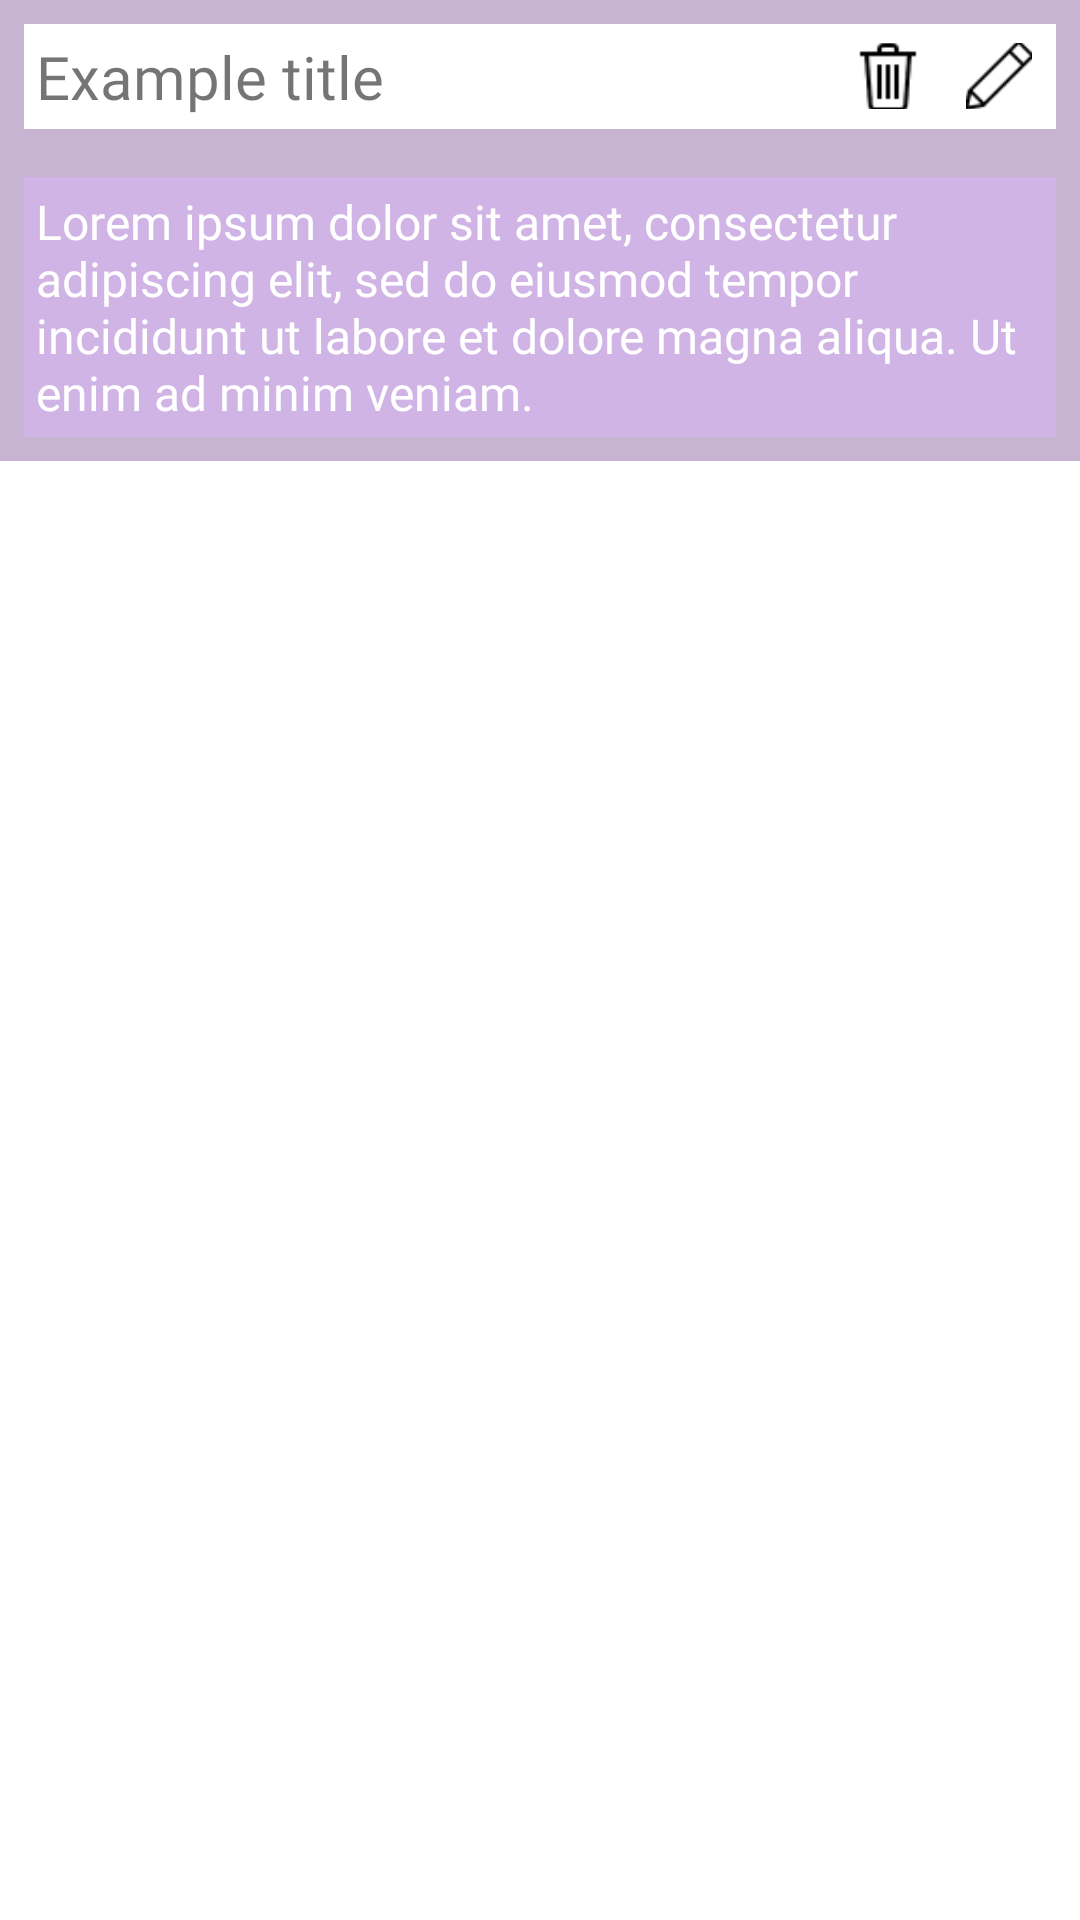

Point at icon controls on the screen. Image size 1080x1920, points as point (x, y).
notes delete note: point (888, 76)
notes edit note: point (999, 76)
